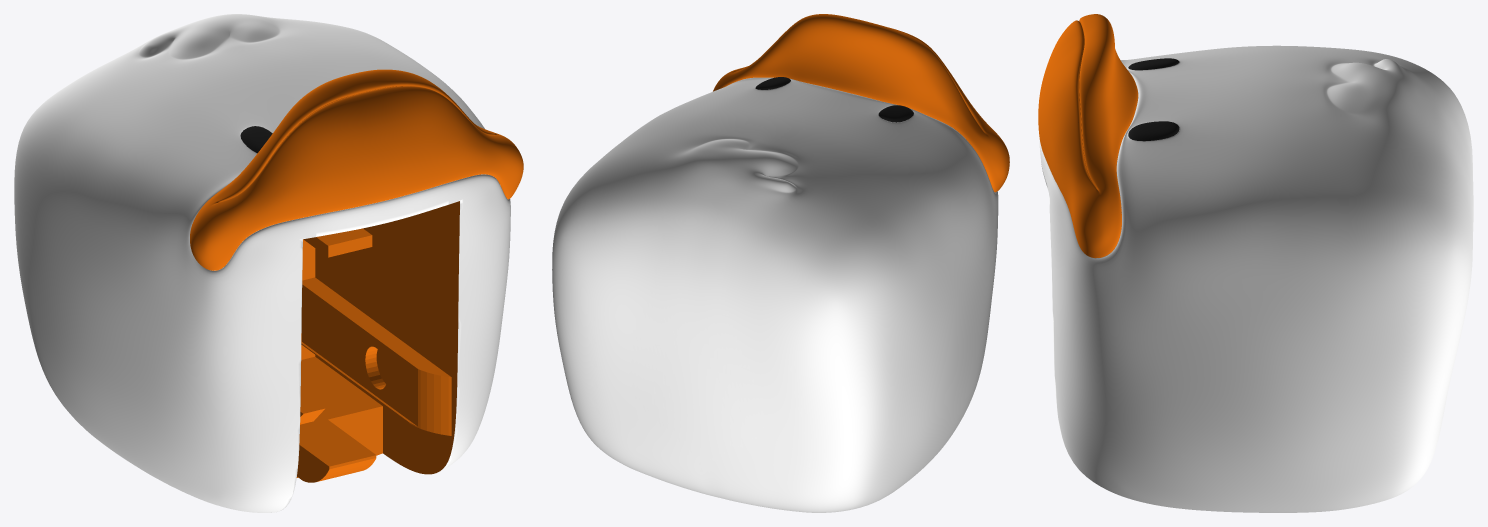
The model's file is ducky_pez_head.fbx.
The picture shows the model from 3 angles, left to right: view 1: azimuth 30°, elevation 25°; view 2: azimuth 150°, elevation 25°; view 3: azimuth 270°, elevation 25°; orthographic projection. The views are drawn at different scales.
Parts seen in each view (by area): view 1: imagetostl_mesh1, imagetostl_mesh2, imagetostl_mesh0; view 2: imagetostl_mesh1, imagetostl_mesh2, imagetostl_mesh0; view 3: imagetostl_mesh1, imagetostl_mesh2, imagetostl_mesh0.
Boxes of the visible parts, x1,y1,x2,y2 form: imagetostl_mesh1: [14, 14, 510, 512]; imagetostl_mesh2: [190, 69, 523, 482]; imagetostl_mesh0: [240, 126, 272, 153]; imagetostl_mesh1: [552, 77, 998, 512]; imagetostl_mesh2: [713, 14, 1009, 192]; imagetostl_mesh0: [755, 77, 913, 122]; imagetostl_mesh1: [1039, 45, 1473, 512]; imagetostl_mesh2: [1038, 14, 1138, 258]; imagetostl_mesh0: [1128, 58, 1179, 141].
Bounding box in the file's own units: 3413 × 3749 × 3378.
